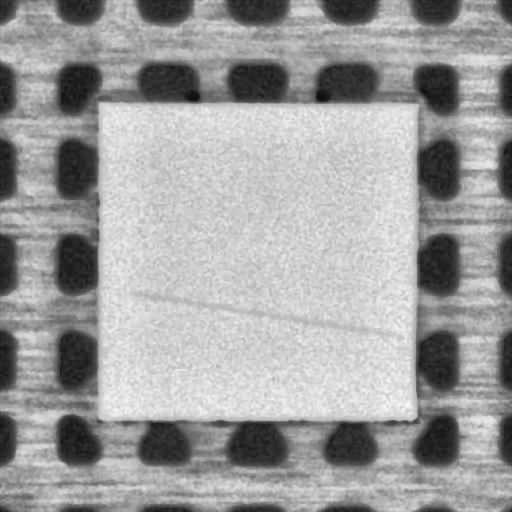DIE_CRACK: (128, 292, 400, 336)
